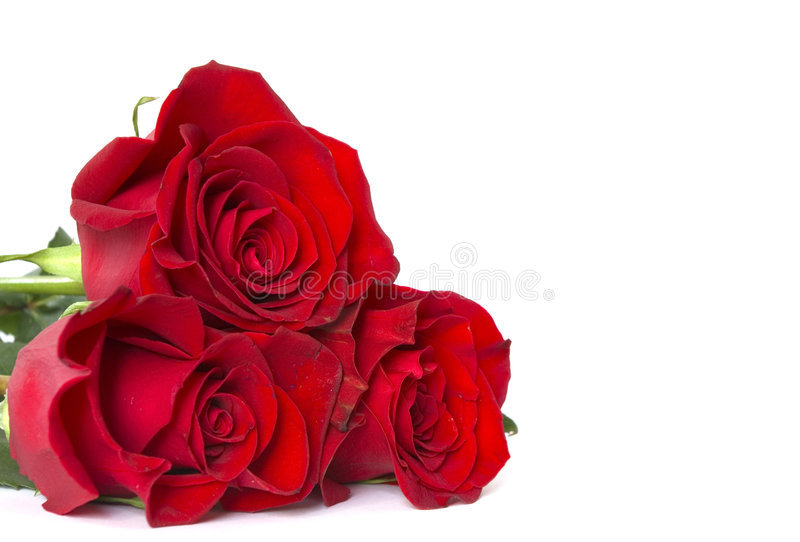RedRose: (63, 70, 393, 322), (21, 314, 341, 513), (350, 295, 512, 493)
